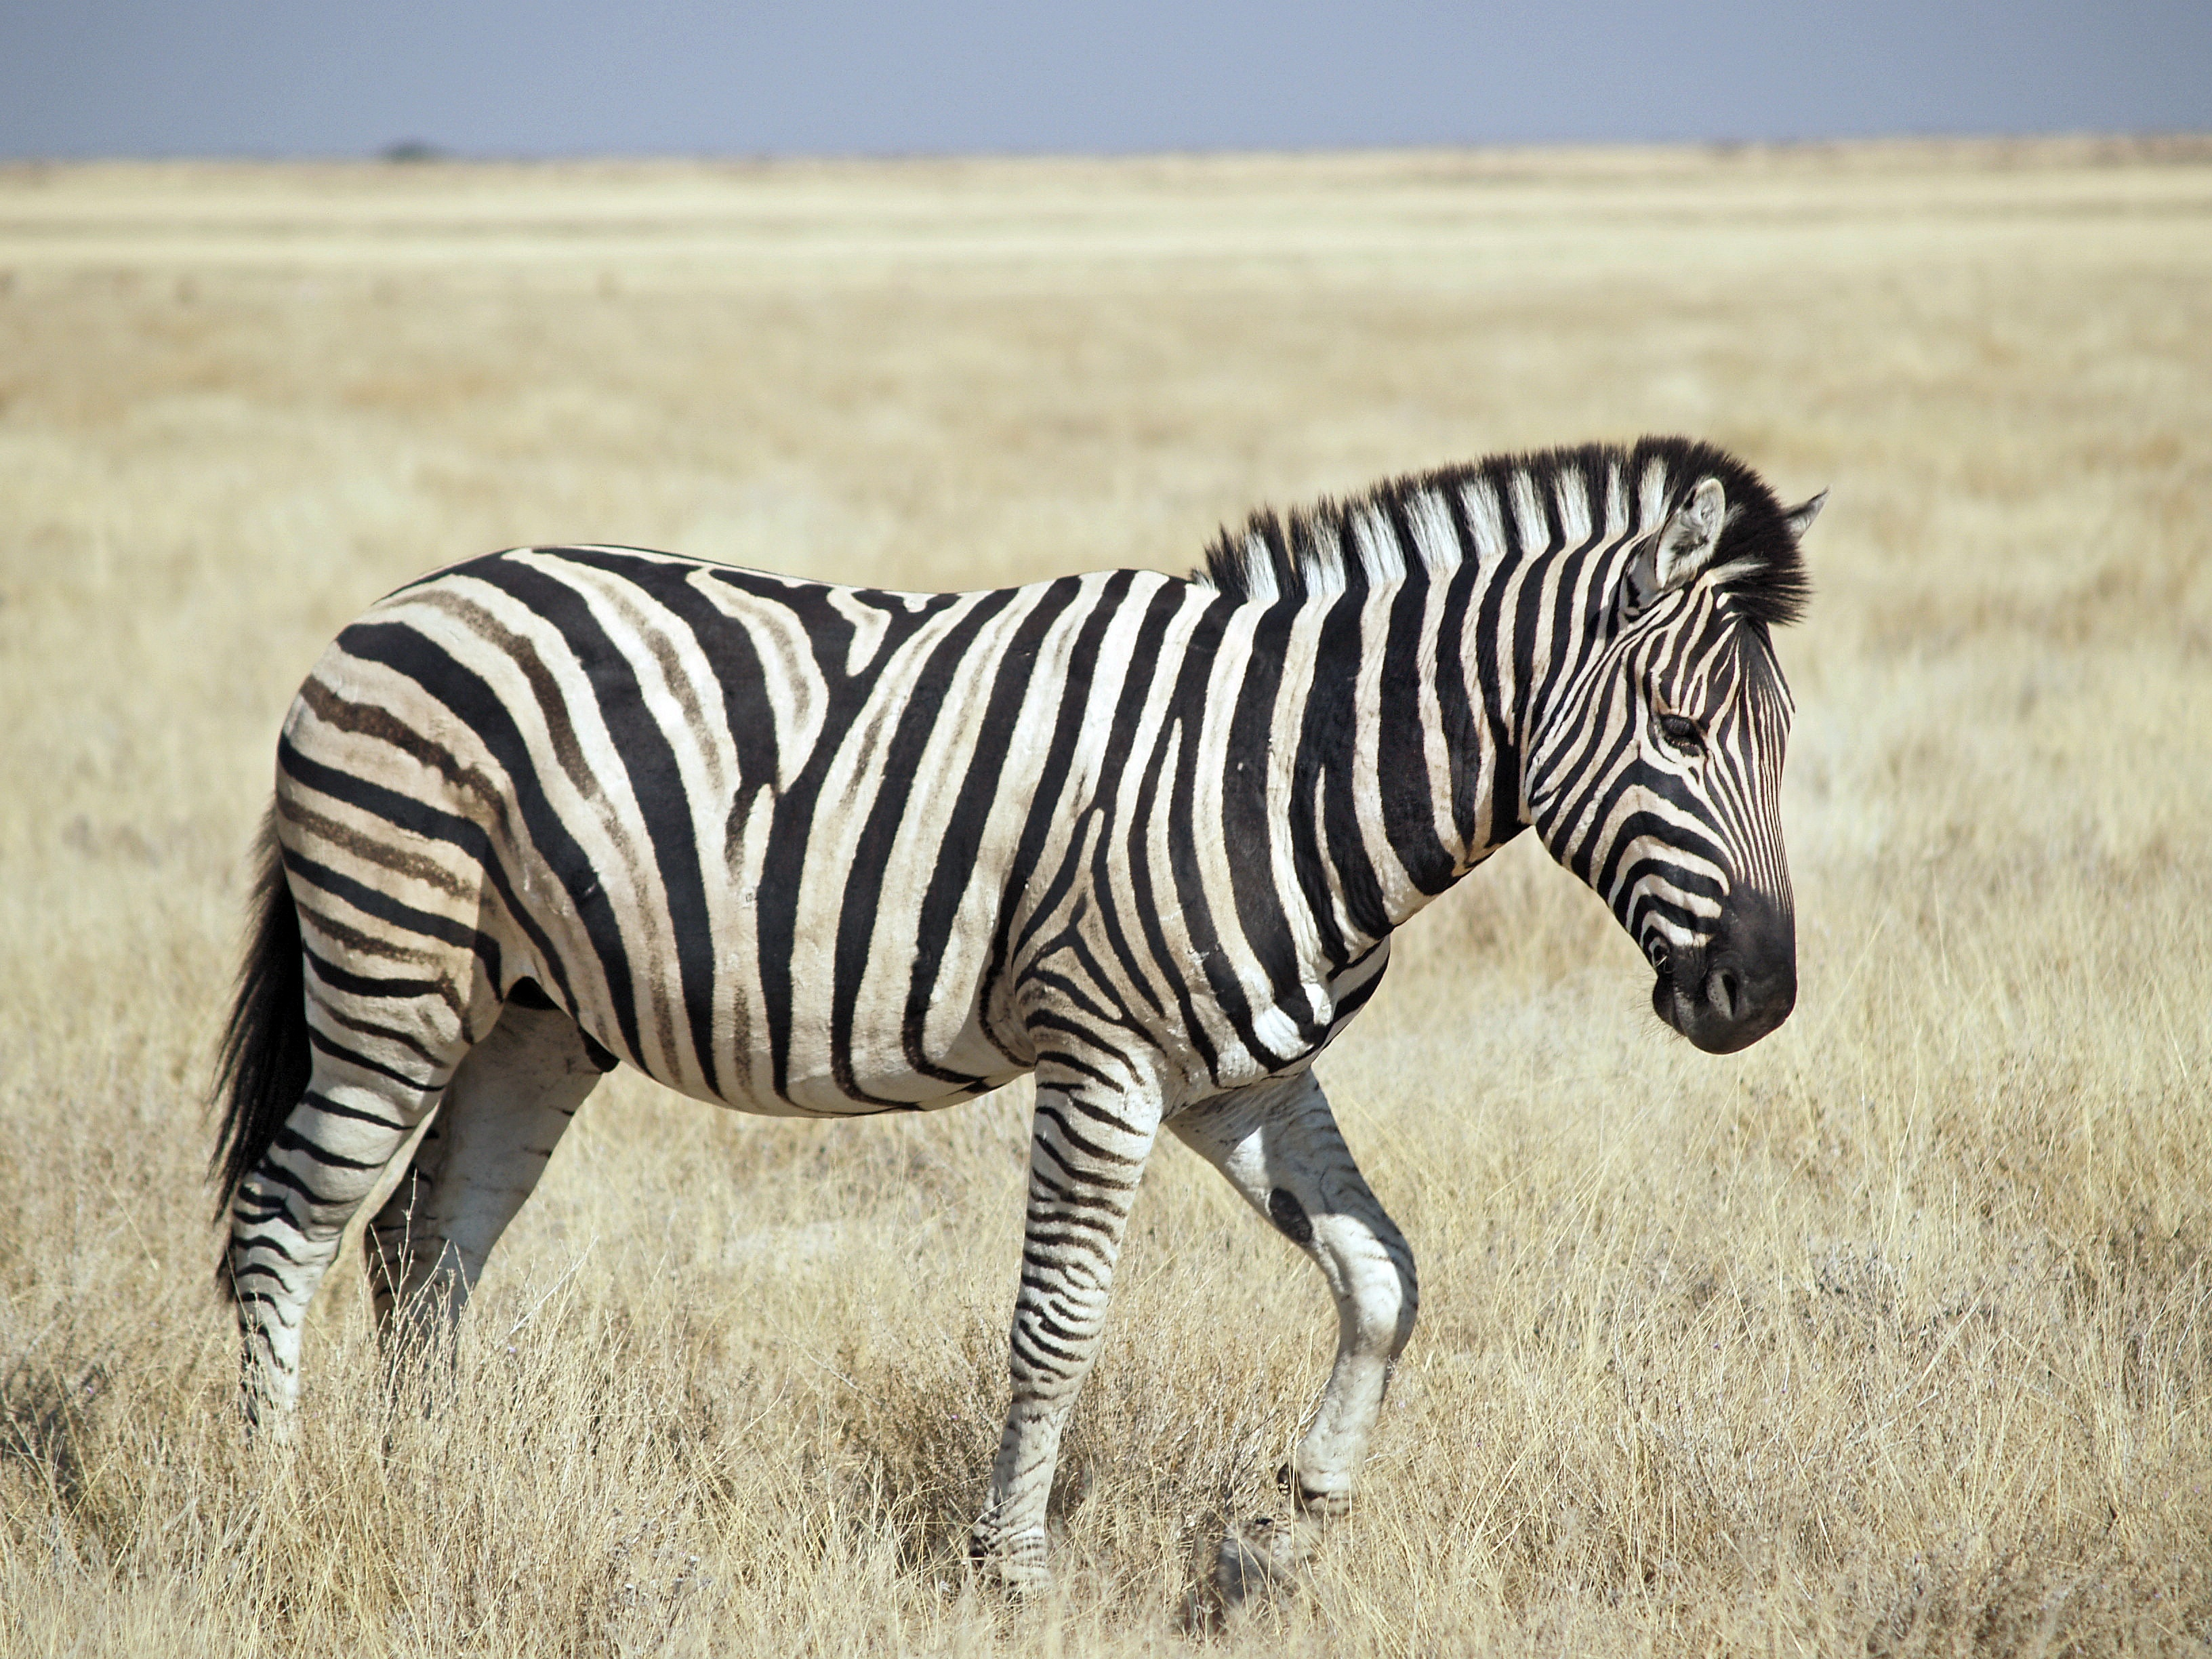zebra: (214, 422, 1817, 1603)
